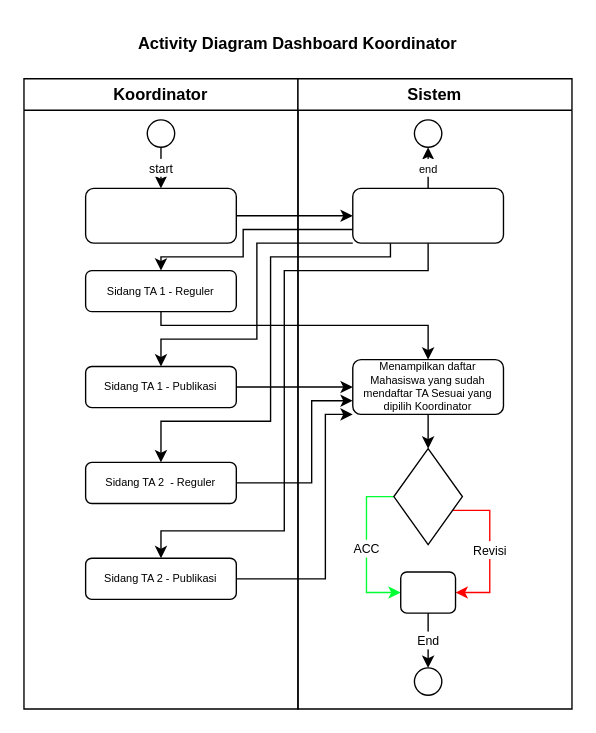
This 596x733 diagram has some shape labels left out. The shapes that lost their labels are listed below. From the top down, each one's centre as x and y in pixels, then its label:
point 160,215: Membuka Fitur Monitoring Sidang Pada SIdebar
point 427,215: Menampilkan Halaman Monitoring Sidang
point 427,496: Validasi Sidang
point 427,592: Hasil
